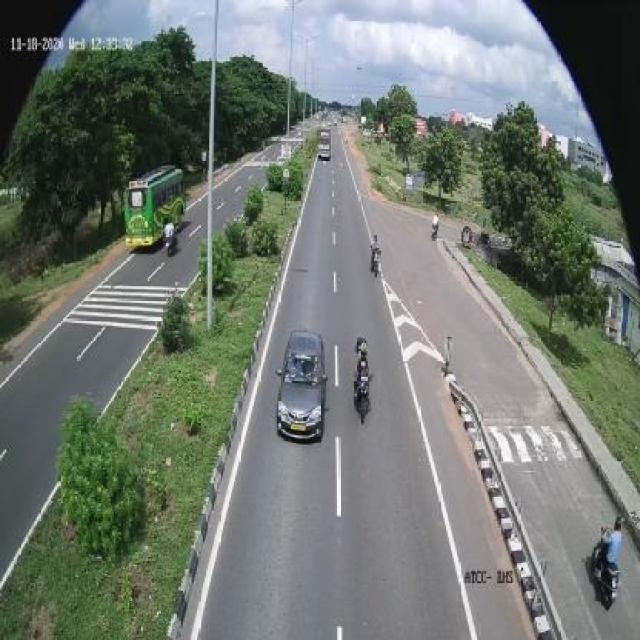car: (277, 325, 329, 443)
